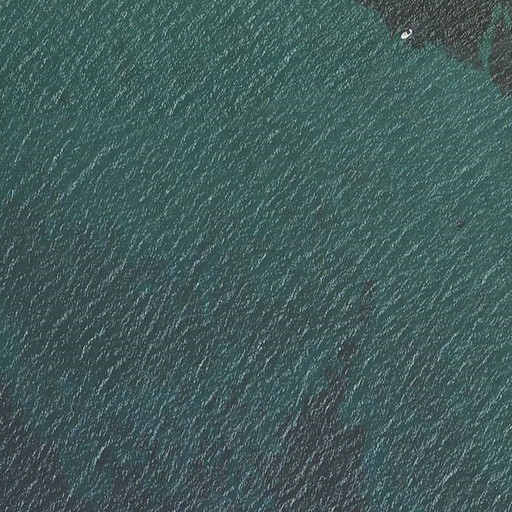ship: (399, 27, 413, 39)
